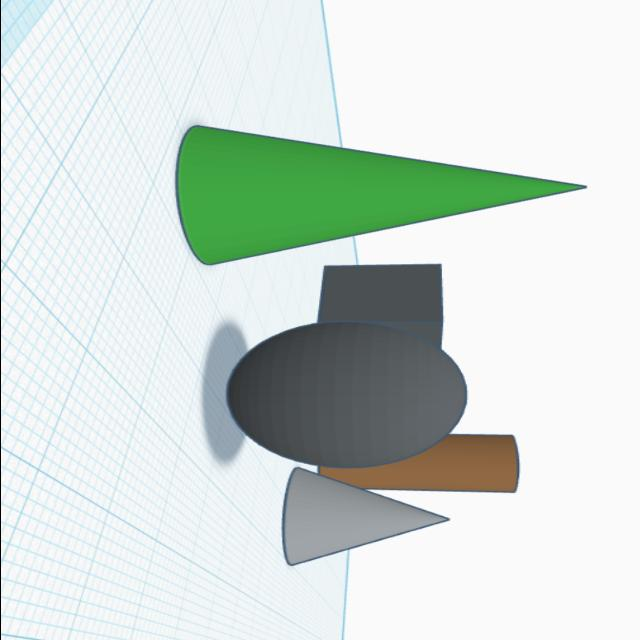cone: (168, 119, 592, 268), (272, 465, 454, 571)
sphere: (218, 318, 472, 471)
